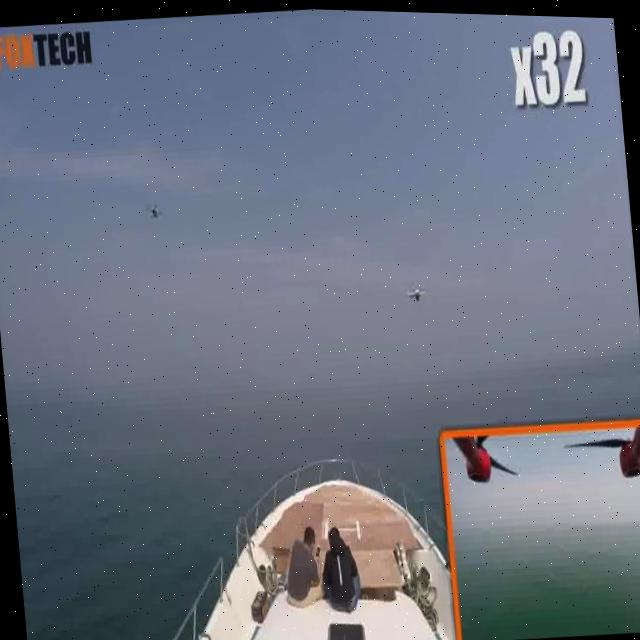drone: (402, 268, 435, 306), (144, 188, 170, 228)
